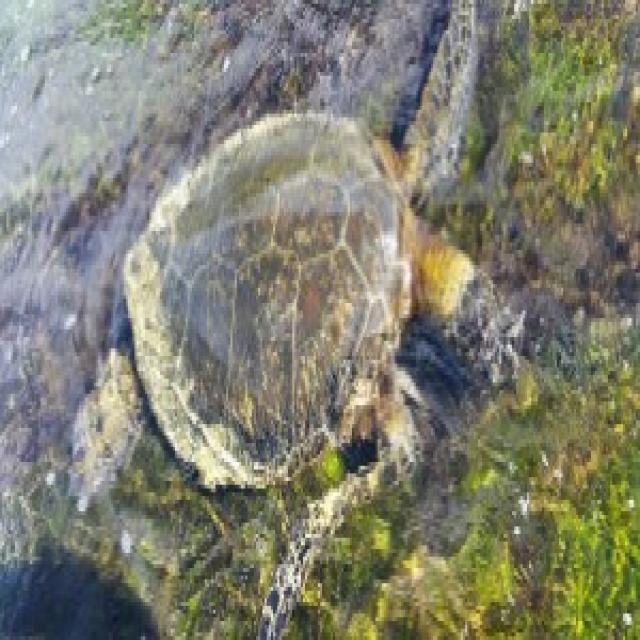Sea turtle: (107, 58, 531, 640)
